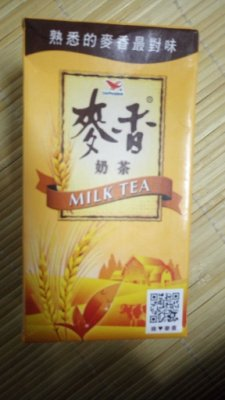milk tea: (20, 17, 189, 338)
